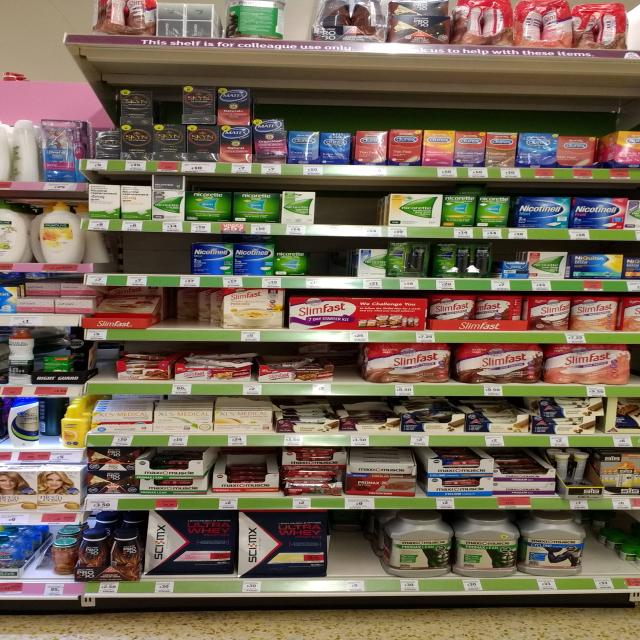empty: (101, 238, 194, 279), (331, 509, 380, 571), (318, 191, 392, 230), (585, 514, 618, 581), (302, 243, 350, 281)
